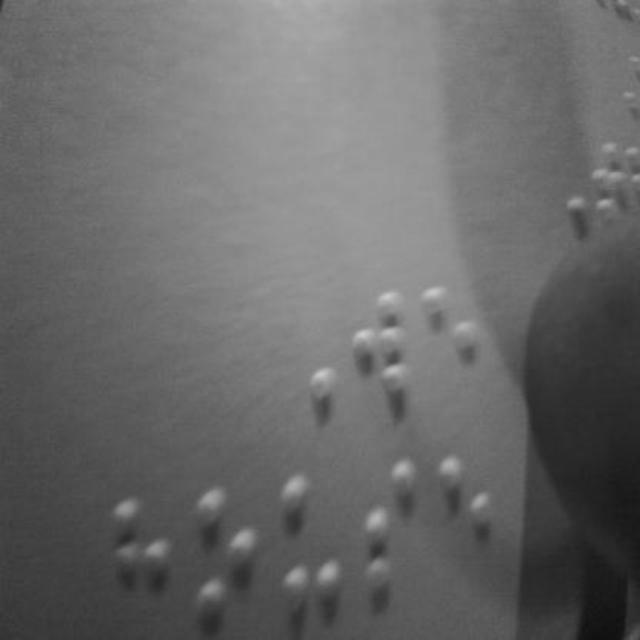braiile: (105, 492, 177, 640), (275, 472, 347, 618), (356, 453, 424, 603), (434, 449, 500, 601), (190, 482, 256, 628), (346, 281, 418, 413), (418, 278, 482, 408)
